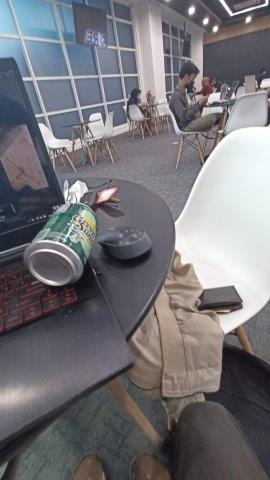kaleng: (23, 202, 98, 286)
